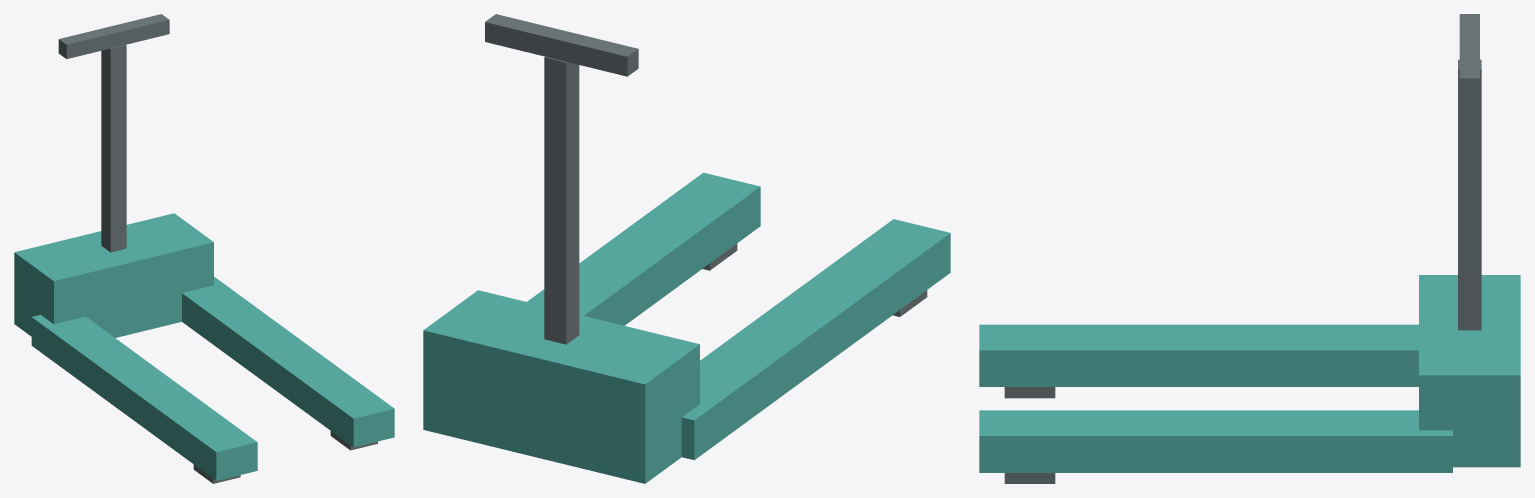
Rendered from supermarket-operations-pallet-jack-160a1bb9__26806.glb.
The picture shows the model from 3 angles, left to right: view 1: azimuth 30°, elevation 25°; view 2: azimuth 150°, elevation 25°; view 3: azimuth 270°, elevation 25°; orthographic projection. The views are drawn at different scales.
Parts seen in each view (by area): view 1: pallet-jack; view 2: pallet-jack; view 3: pallet-jack.
Part boxes in pixels (bbox=[...]): pallet-jack: bbox=[14, 14, 394, 483]; pallet-jack: bbox=[423, 14, 950, 483]; pallet-jack: bbox=[979, 14, 1520, 483].
Bounding box in the file's own units: 0.78 × 1.26 × 1.6.
